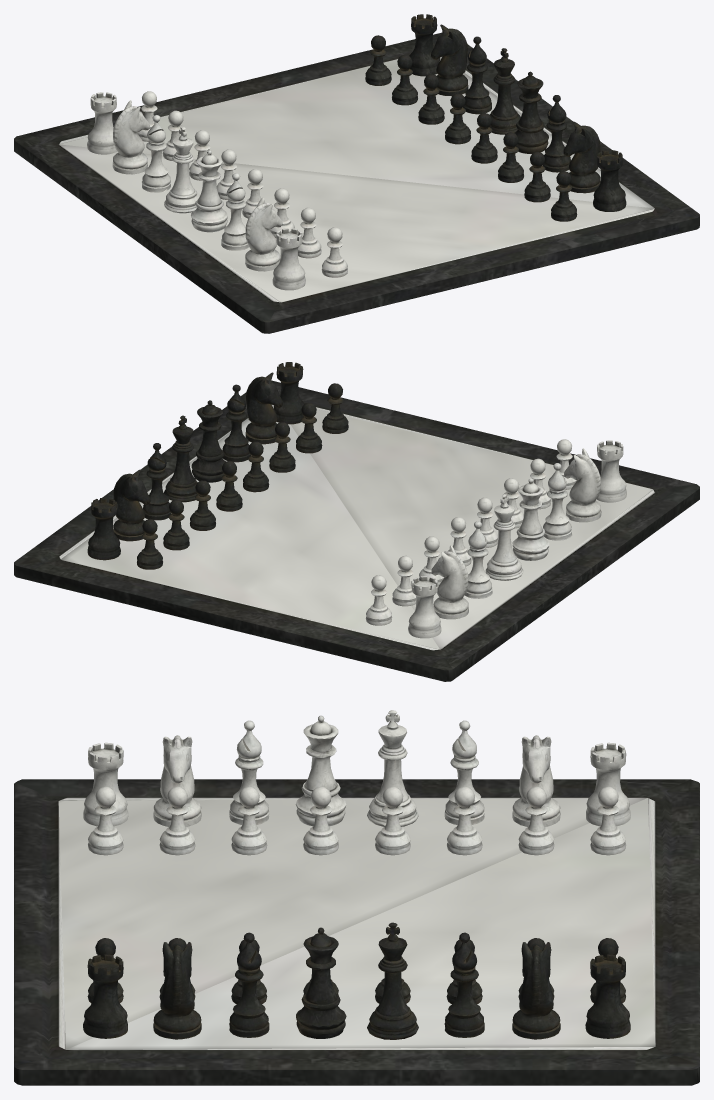
Rendered from chess-set.glb.
3 renders of one model, top to bottom at view 1: azimuth 30°, elevation 25°; view 2: azimuth 150°, elevation 25°; view 3: azimuth 270°, elevation 25°, orthographic. The views are drawn at different scales.
Visible parts, largest first — view 1: chess-set; view 2: chess-set; view 3: chess-set.
Part boxes in pixels (bbox=[...]): chess-set: bbox=[14, 14, 699, 333]; chess-set: bbox=[14, 362, 699, 681]; chess-set: bbox=[14, 710, 699, 1085].
Size of the model in its own units: 0.3319 by 0.0674 by 0.3319.
Materials: 3 (3 with a texture image).
